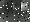person: (15, 3, 21, 15), (23, 3, 28, 12)
